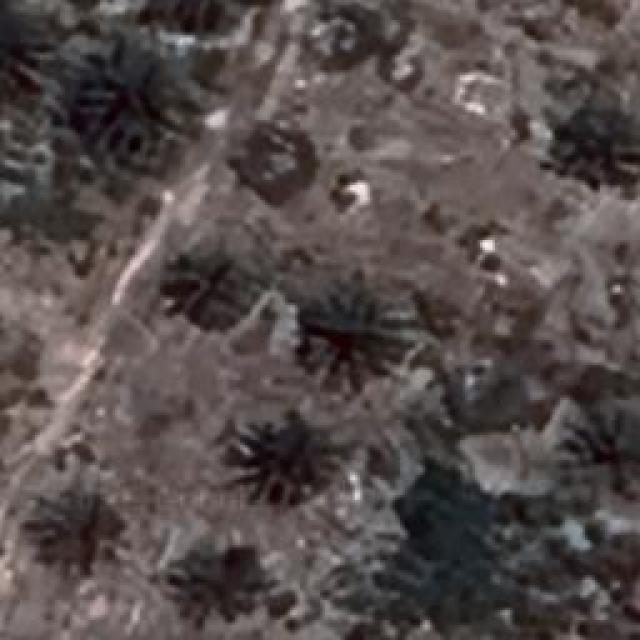PalmTree: (87, 43, 597, 139), (82, 48, 198, 162), (232, 414, 338, 504), (302, 290, 408, 372), (158, 245, 254, 333), (550, 391, 640, 479), (38, 492, 120, 576), (0, 0, 56, 111), (176, 545, 252, 615)
